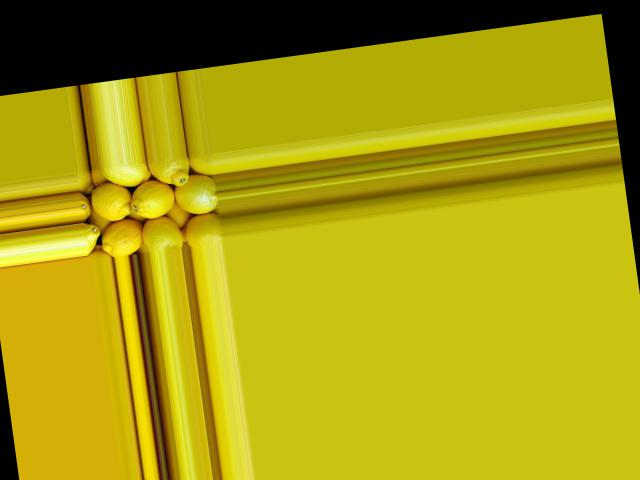lemon: (190, 154, 215, 178)
